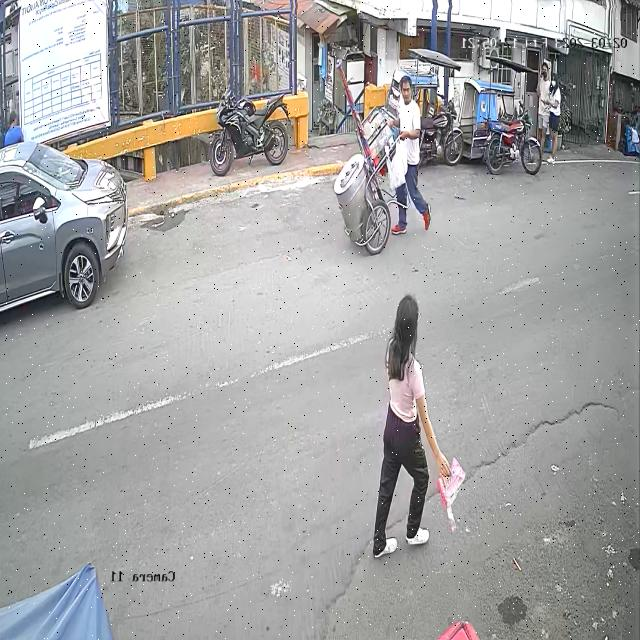garbage_dumping: (432, 446, 467, 522)
